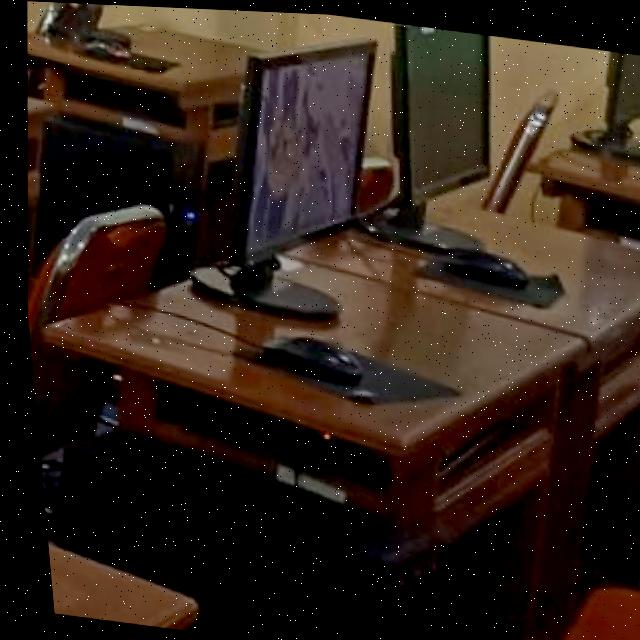offscreen: (406, 21, 486, 193), (603, 46, 640, 130)
onscreen: (235, 37, 372, 256)
